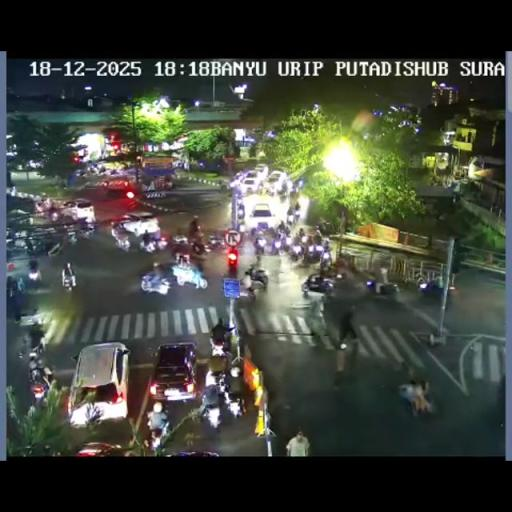Car: (66, 342, 130, 424), (148, 342, 198, 403), (37, 197, 94, 223), (112, 212, 161, 238), (246, 202, 277, 230), (74, 441, 126, 456), (102, 177, 137, 197), (266, 170, 290, 194), (239, 175, 262, 194), (253, 163, 269, 177)
Motorcycle: (322, 286, 356, 350), (398, 382, 436, 419), (28, 358, 54, 404), (197, 385, 222, 427), (301, 270, 337, 298), (418, 274, 454, 301), (241, 264, 269, 298), (220, 382, 245, 419), (365, 274, 399, 301), (139, 268, 174, 294), (146, 402, 169, 440), (206, 352, 229, 380), (27, 334, 47, 364), (139, 232, 166, 254), (209, 332, 231, 356), (22, 236, 46, 256), (188, 234, 209, 256), (302, 242, 322, 264), (229, 355, 244, 382), (61, 268, 77, 291), (26, 269, 42, 292), (206, 231, 225, 250), (273, 230, 288, 254), (317, 218, 337, 236), (287, 238, 303, 260), (253, 233, 268, 255), (188, 214, 202, 237), (114, 232, 130, 252), (46, 240, 64, 257), (170, 231, 189, 246), (175, 247, 190, 266), (6, 276, 18, 297), (319, 246, 331, 263), (84, 216, 95, 232), (163, 174, 174, 190), (66, 230, 78, 244), (7, 227, 17, 243), (252, 254, 262, 270), (286, 210, 295, 226), (238, 220, 246, 238), (290, 186, 298, 204), (48, 206, 57, 222), (312, 230, 322, 244), (299, 232, 309, 245), (219, 179, 228, 193), (278, 220, 286, 234), (96, 163, 106, 174), (294, 202, 300, 215)
